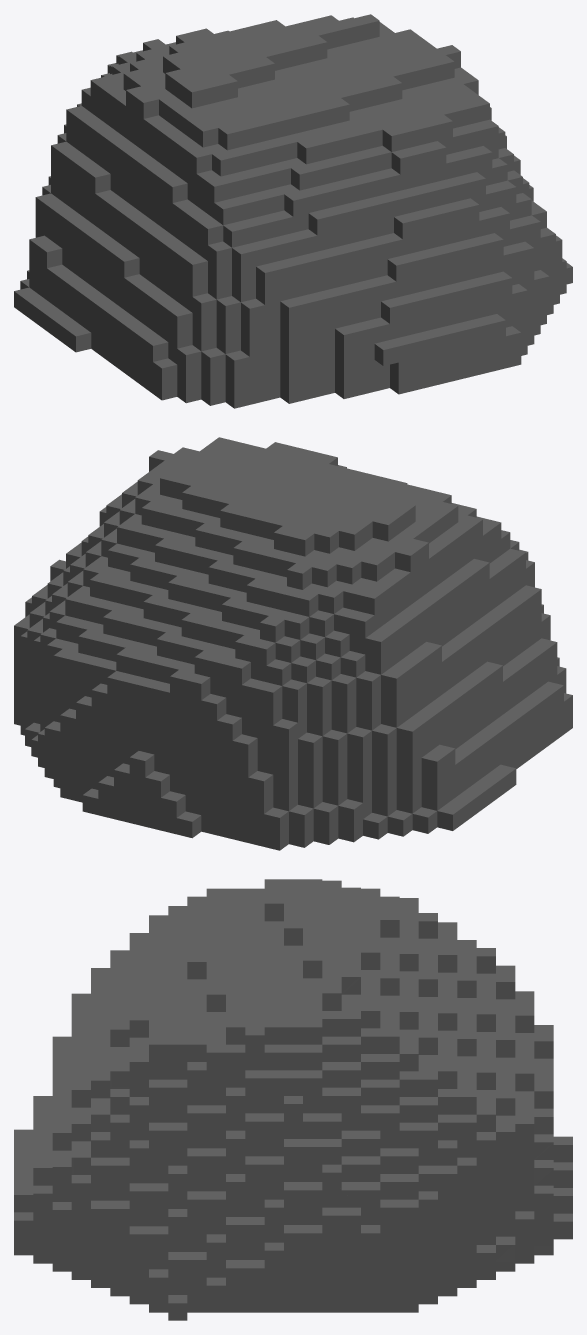
Rendered from rock1.glb.
3 renders of one model, top to bottom at view 1: azimuth 30°, elevation 25°; view 2: azimuth 150°, elevation 25°; view 3: azimuth 270°, elevation 25°, orthographic. The views are drawn at different scales.
Parts seen in each view (by area): view 1: geometry_0; view 2: geometry_0; view 3: geometry_0.
Boxes of the visible parts, bbox=[...] form: geometry_0: bbox=[14, 14, 572, 408]; geometry_0: bbox=[14, 437, 572, 850]; geometry_0: bbox=[14, 879, 572, 1320].
Bounding box in the file's own units: 4.36 × 2.25 × 4.36.
1 material, 1 textured.
